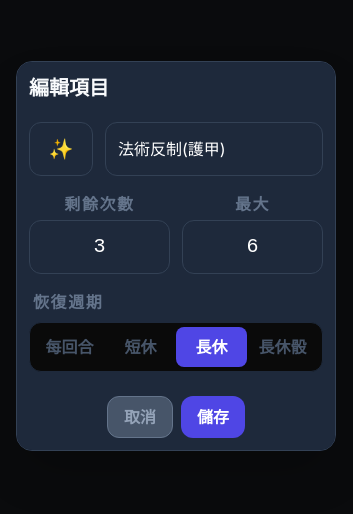
it: CombatItemEditModal - 長休骰 › 超過上限（101d6）視為不合法
Click the button "長休骰": (282, 347) [247,327,318,367]
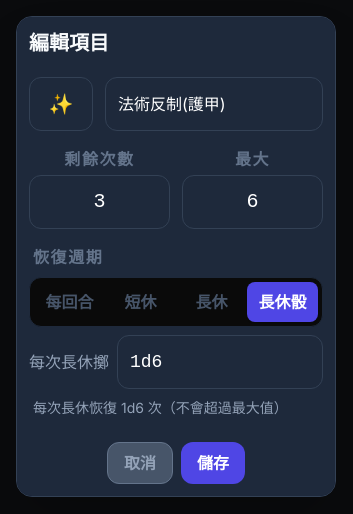
Replace the text in the field named "長休恢復骰子" with "101d6": (220, 362) [117,334,323,388]
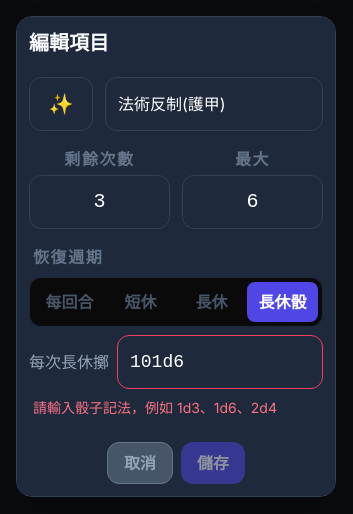
Check: the text "請輸入骰子記法，例如 1d3、1d6、2d4" is shown, box [33,398,277,416]
